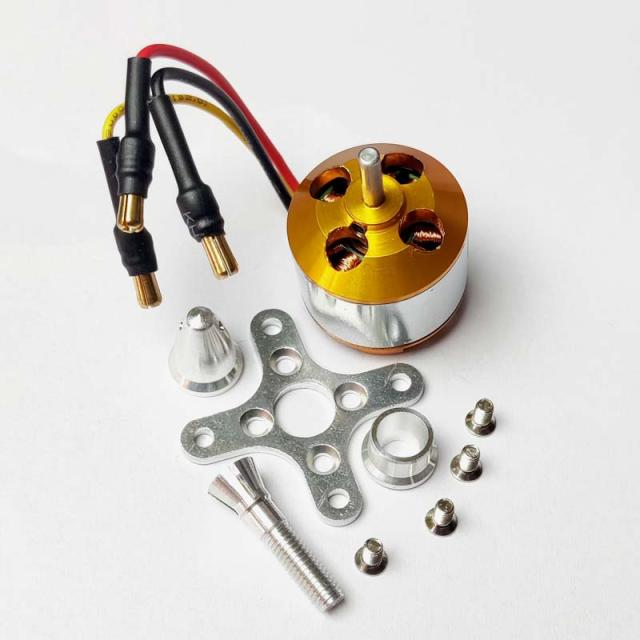motor: (270, 130, 482, 355)
